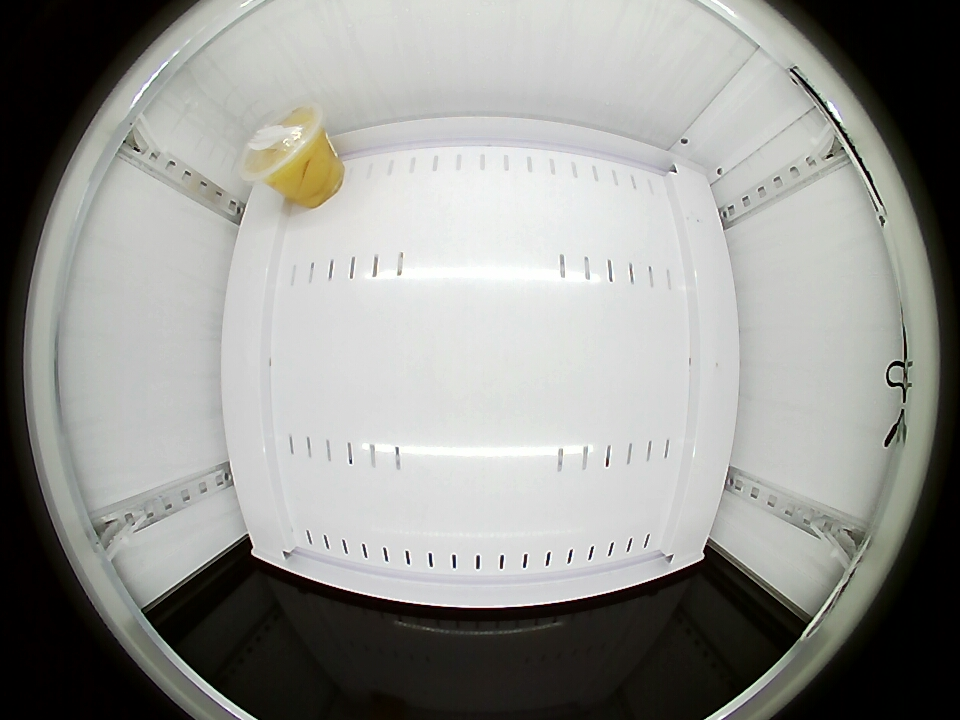xianguolao: (239, 105, 327, 188)
